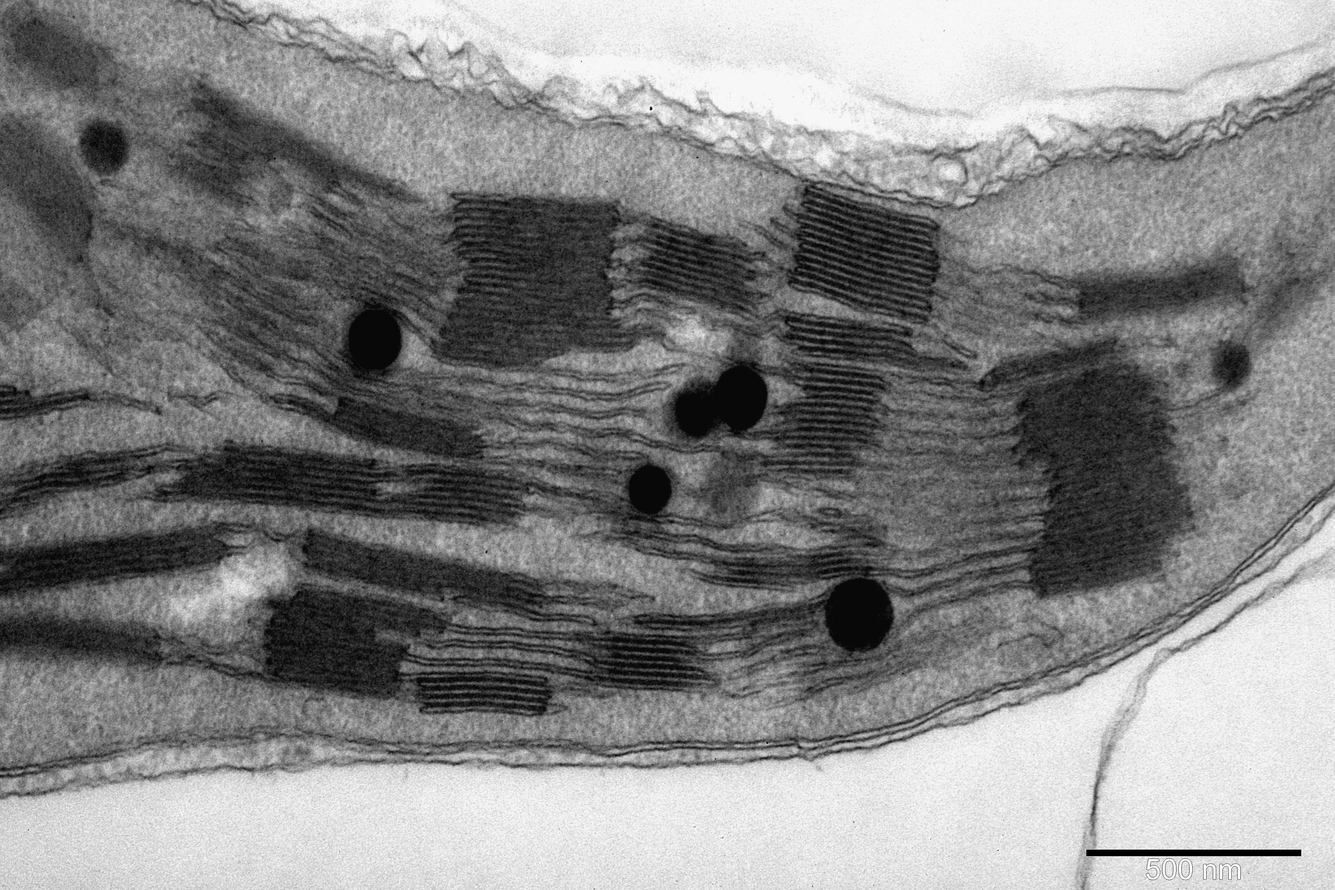granum: (1019, 358, 1201, 600), (427, 189, 633, 372), (166, 76, 349, 203), (301, 526, 542, 621), (786, 179, 942, 324), (262, 580, 451, 699), (154, 439, 406, 517), (3, 521, 229, 594), (767, 358, 885, 480), (0, 114, 95, 262), (634, 216, 761, 316), (1074, 255, 1250, 320), (374, 459, 522, 530), (331, 396, 485, 464), (2, 7, 112, 99), (0, 447, 149, 514), (4, 610, 164, 666), (977, 335, 1119, 392), (780, 307, 915, 365), (594, 629, 714, 693), (414, 669, 552, 721), (709, 552, 794, 594), (805, 539, 886, 581), (0, 385, 35, 420)
